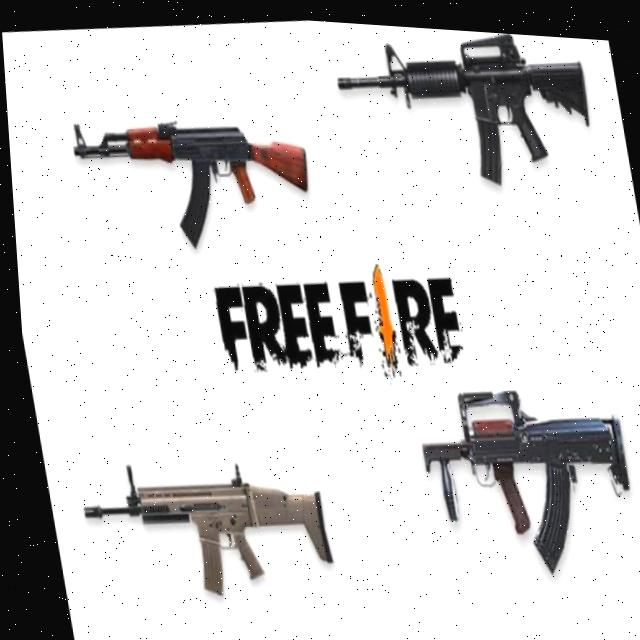firearm: (407, 365, 639, 586), (327, 17, 601, 202), (66, 438, 332, 612), (64, 95, 319, 267)
